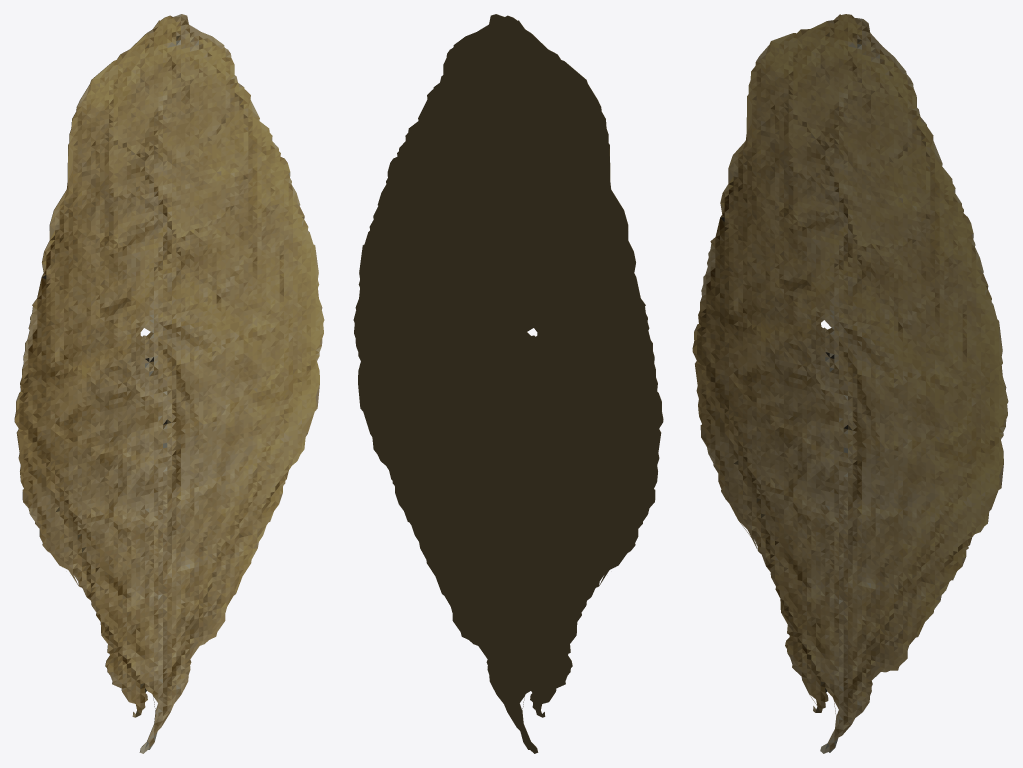
Rendered from 20260911_160948895_iOS.obj.
The picture shows the model from 3 angles, left to right: view 1: azimuth 30°, elevation 25°; view 2: azimuth 150°, elevation 25°; view 3: azimuth 330°, elevation 25°; orthographic projection.
Parts seen in each view (by area): view 1: 20260911_160948895_iOS; view 2: 20260911_160948895_iOS; view 3: 20260911_160948895_iOS.
Boxes of the visible parts, x1,y1,x2,y2 form: 20260911_160948895_iOS: [14, 14, 324, 753]; 20260911_160948895_iOS: [353, 14, 663, 753]; 20260911_160948895_iOS: [692, 14, 1008, 753].
Bounding box in the file's own units: 207 × 467 × 0.3.
